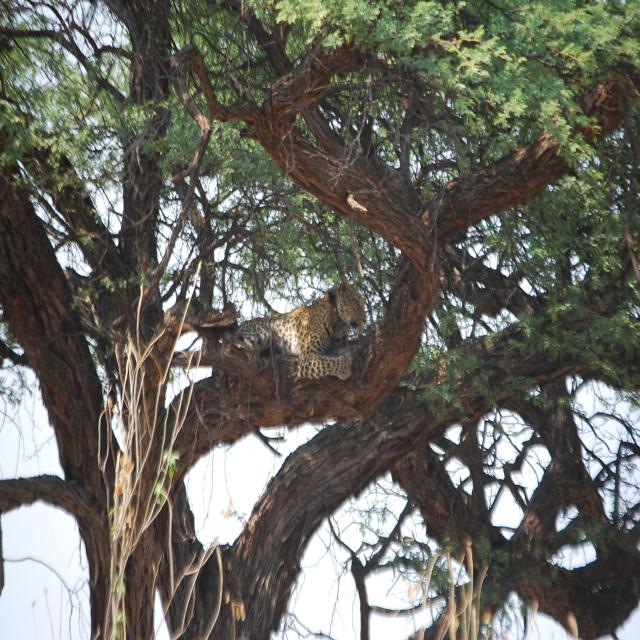Leopard: (217, 272, 382, 388)
